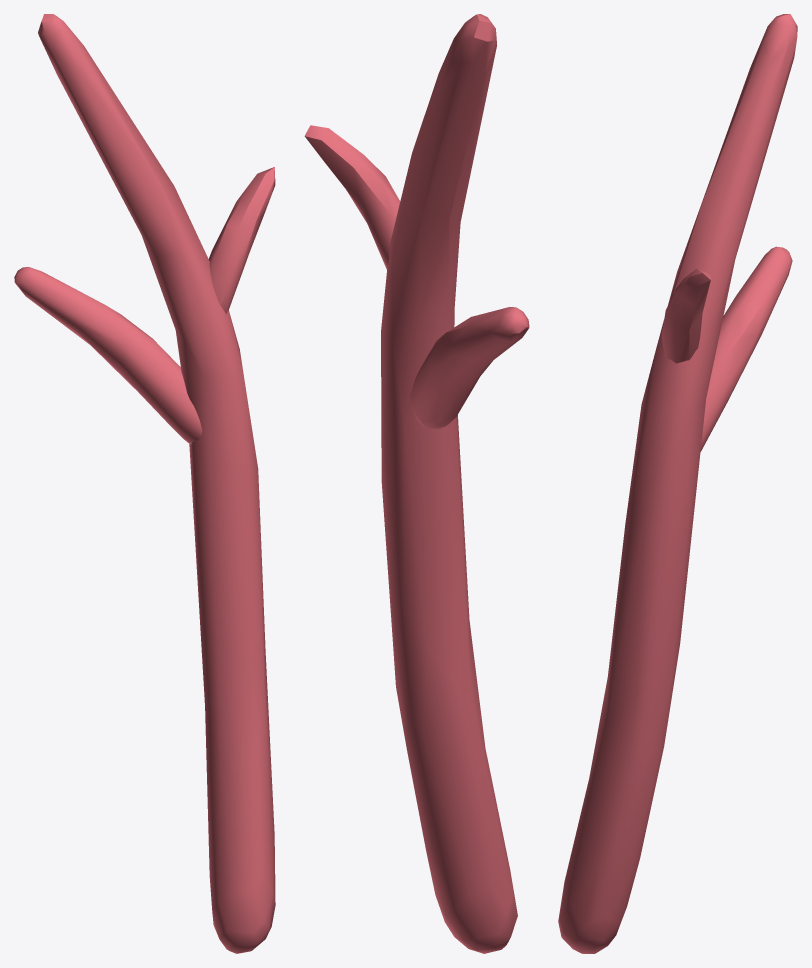
File: fma8681_cx285.glb
3 views of the same model, side by side, from view 1: azimuth 30°, elevation 25°; view 2: azimuth 150°, elevation 25°; view 3: azimuth 270°, elevation 25° (orthographic). The views are drawn at different scales.
Visible parts, largest first — view 1: FMA8681_CX285; view 2: FMA8681_CX285; view 3: FMA8681_CX285.
Boxes of the visible parts, x1,y1,x2,y2 form: FMA8681_CX285: [14, 14, 275, 953]; FMA8681_CX285: [304, 14, 529, 953]; FMA8681_CX285: [558, 14, 797, 953].
Bounding box in the file's own units: 0.0143 × 0.0544 × 0.0132.
